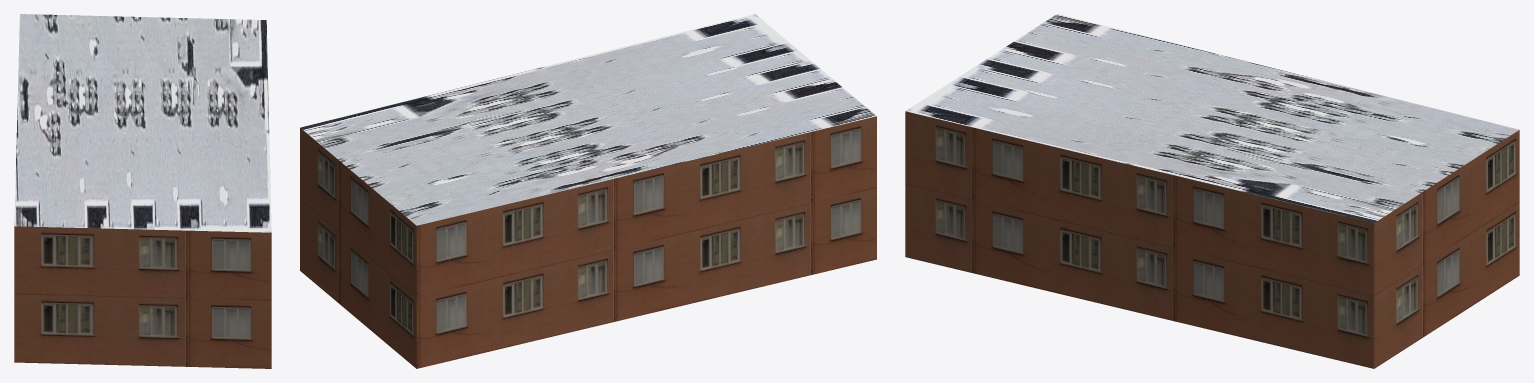
File: ResTex__725.fbx
3 views of the same model, side by side, from view 1: azimuth 30°, elevation 25°; view 2: azimuth 150°, elevation 25°; view 3: azimuth 270°, elevation 25° (orthographic). The views are drawn at different scales.
Visible parts, largest first — view 1: CityEngineMaterial_8_m, CityEngineMaterial_20_m; view 2: CityEngineMaterial_20_m, CityEngineMaterial_8_m; view 3: CityEngineMaterial_20_m, CityEngineMaterial_8_m.
Part boxes in pixels (x1,y1,x2,y2): CityEngineMaterial_8_m: [14, 14, 271, 232]; CityEngineMaterial_20_m: [14, 226, 271, 368]; CityEngineMaterial_20_m: [300, 116, 876, 368]; CityEngineMaterial_8_m: [300, 14, 876, 225]; CityEngineMaterial_20_m: [905, 111, 1519, 368]; CityEngineMaterial_8_m: [906, 14, 1519, 222].
Size of the model in its own units: 18.46 by 6 by 22.91.
2 materials, 2 textured.
